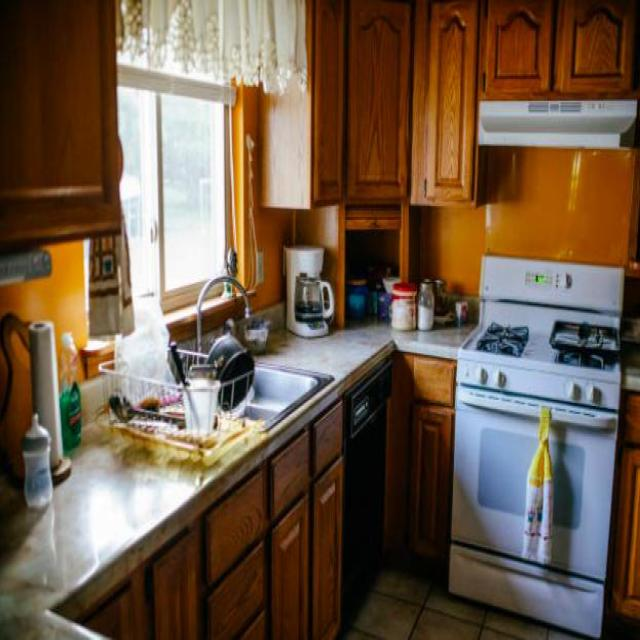dishwasher: (342, 354, 389, 622)
